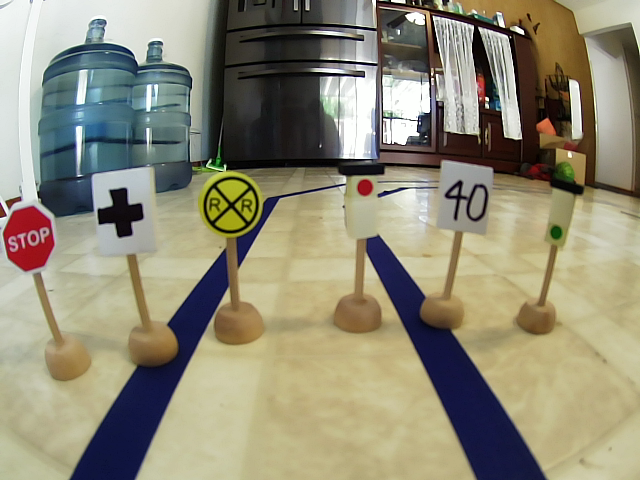40: (438, 158, 496, 239)
green: (544, 175, 587, 258)
plus: (90, 165, 162, 258)
rail: (195, 170, 267, 242)
stop: (337, 161, 391, 242), (1, 197, 56, 273)
